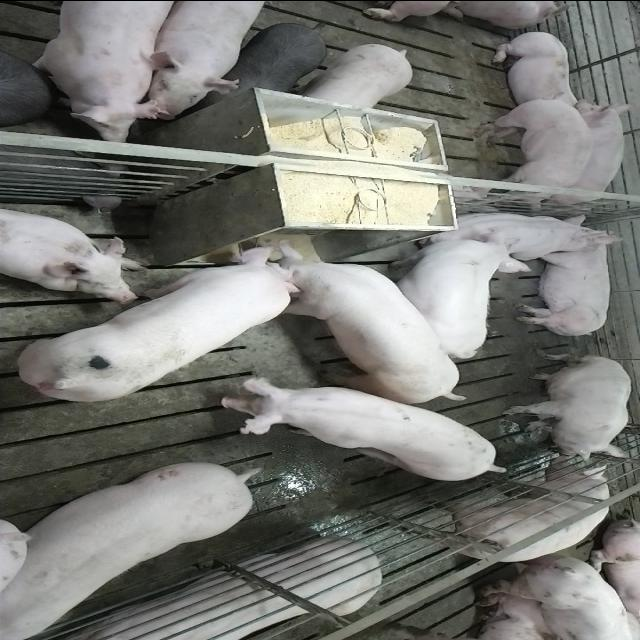Feeding: (15, 240, 307, 404), (259, 241, 471, 408)
Lateral_lying: (512, 222, 626, 338)
Sitting: (502, 354, 632, 462)
Standing: (4, 456, 264, 636), (215, 376, 516, 484), (21, 2, 185, 142), (406, 458, 611, 560), (379, 234, 531, 360), (133, 3, 274, 121), (468, 95, 594, 209), (484, 559, 640, 640), (213, 20, 331, 95), (294, 42, 414, 110), (0, 29, 51, 125)
Sternal_lying: (46, 540, 378, 640), (0, 203, 146, 297), (414, 206, 600, 258), (487, 28, 589, 113)
